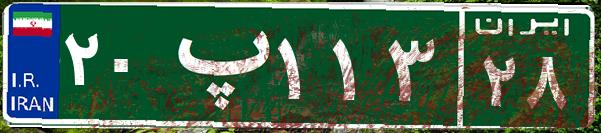0: (110, 28, 158, 105)
1: (273, 28, 330, 110), (330, 28, 385, 110)
2: (57, 26, 110, 107), (475, 38, 525, 113)
3: (385, 28, 445, 110)
8: (525, 38, 570, 115)
پ: (158, 15, 273, 115)
